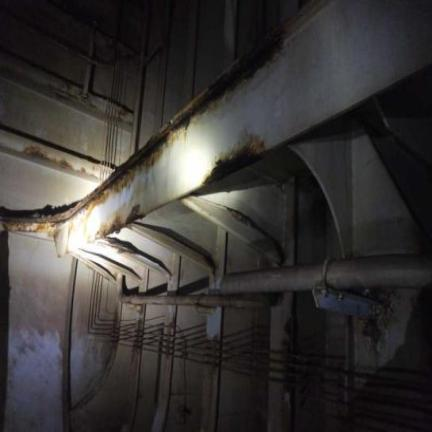besi_tidak_karat: (0, 234, 71, 431), (179, 161, 285, 257), (0, 77, 102, 159), (71, 264, 116, 406), (0, 154, 95, 209), (139, 202, 215, 252), (111, 229, 174, 273)
karat: (74, 44, 284, 211), (203, 141, 263, 180), (100, 202, 143, 255), (1, 220, 66, 240)
